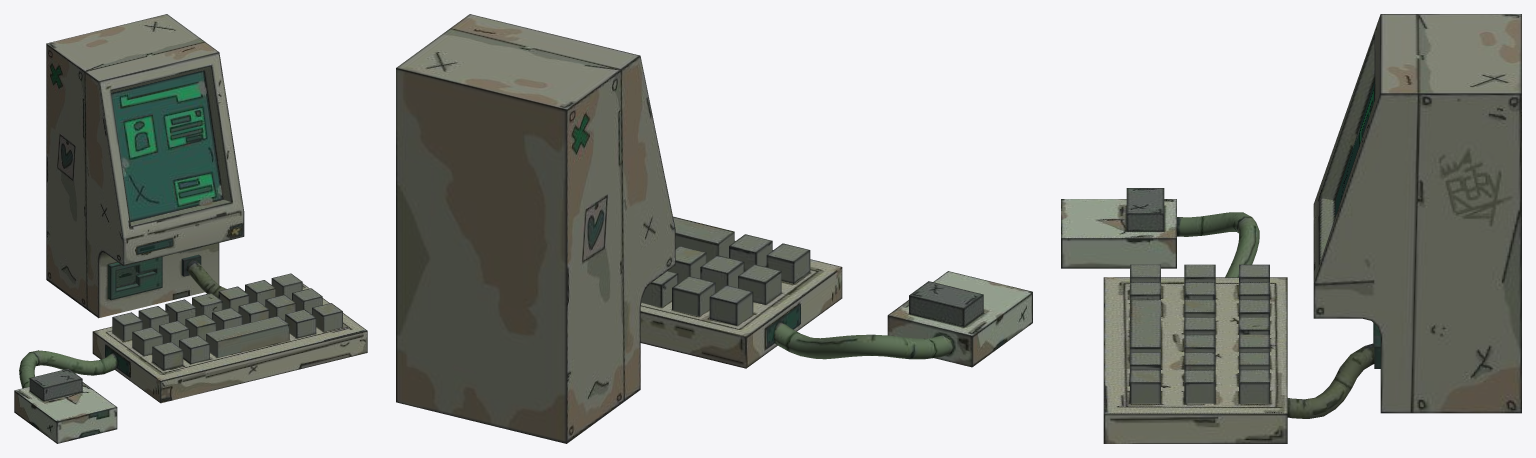
The model's file is computer.dae.
The picture shows the model from 3 angles, left to right: view 1: azimuth 30°, elevation 25°; view 2: azimuth 150°, elevation 25°; view 3: azimuth 270°, elevation 25°; orthographic projection. The views are drawn at different scales.
Parts seen in each view (by area): view 1: pCube1_comp_0, pCube1, pCube25_keyboard_keys_0, pCube25, pCube3_mouse_0, pCube3, pCube1_comp_port_0, pCube25_keyboard_wire_0, pCube1_green_sup_0; view 2: pCube1_comp_0, pCube25_keyboard_keys_0, pCube3_mouse_0, pCube25, pCube3; view 3: pCube1_comp_0, pCube25, pCube25_keyboard_keys_0, pCube3_mouse_0, pCube3, pCube25_keyboard_wire_0, pCube1.
Boxes of the visible parts, x1,y1,x2,y2 form: pCube1_comp_0: (46,14,244,318); pCube1: (111,70,222,221); pCube25_keyboard_keys_0: (112,273,342,370); pCube25: (92,283,367,403); pCube3_mouse_0: (14,368,117,443); pCube3: (19,350,117,388); pCube1_comp_port_0: (108,257,162,300); pCube25_keyboard_wire_0: (186,260,226,297); pCube1_green_sup_0: (137,224,242,254); pCube1_comp_0: (396,14,675,443); pCube25_keyboard_keys_0: (641,216,810,325); pCube3_mouse_0: (887,271,1032,367); pCube25: (640,241,842,368); pCube3: (773,322,954,359); pCube1_comp_0: (1313,14,1521,413); pCube25: (1103,277,1287,443); pCube25_keyboard_keys_0: (1130,264,1269,403); pCube3_mouse_0: (1061,188,1176,268); pCube3: (1177,212,1259,277); pCube25_keyboard_wire_0: (1287,343,1374,418); pCube1: (1335,81,1374,216).
Size of the model in its own units: 0.6563 by 0.5941 by 0.4585.
10 materials, 10 textured.
